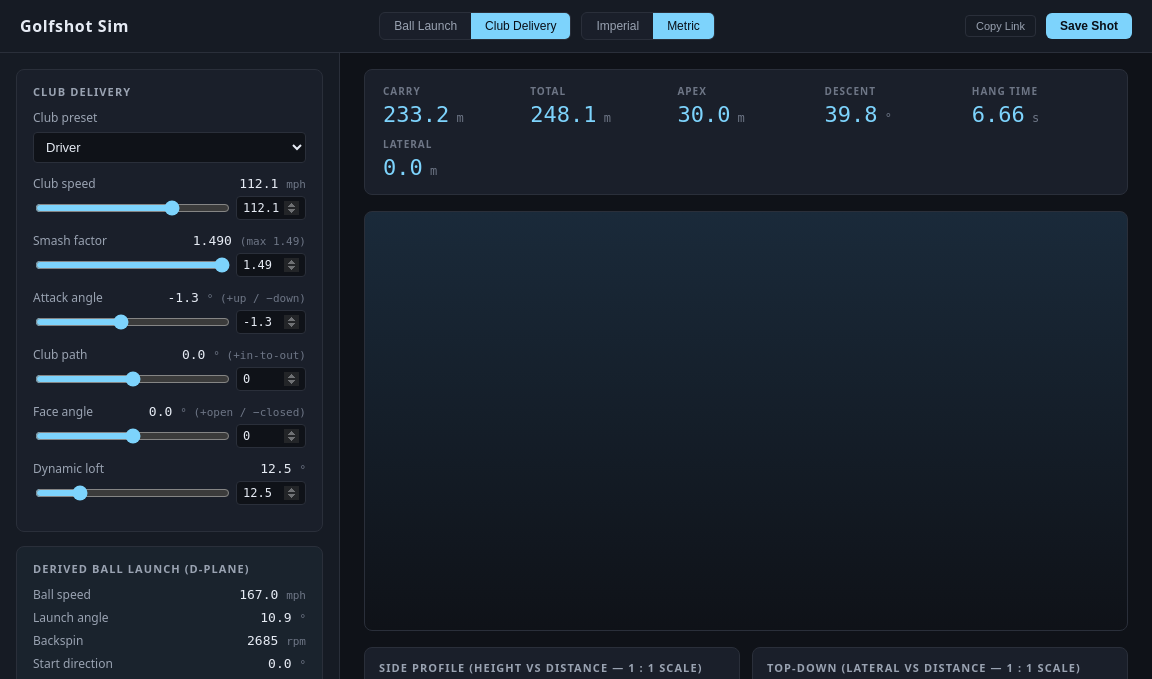
Test: App smoke › Derived ball launch panel is shown in default Delivery mode, hidden after switching to Ball Launch
Expected: the heading "Derived ball launch (D-plane)" is shown, [33,561,250,576]
Click the button "Ball Launch": coordinates (426, 26) [380,13,471,39]
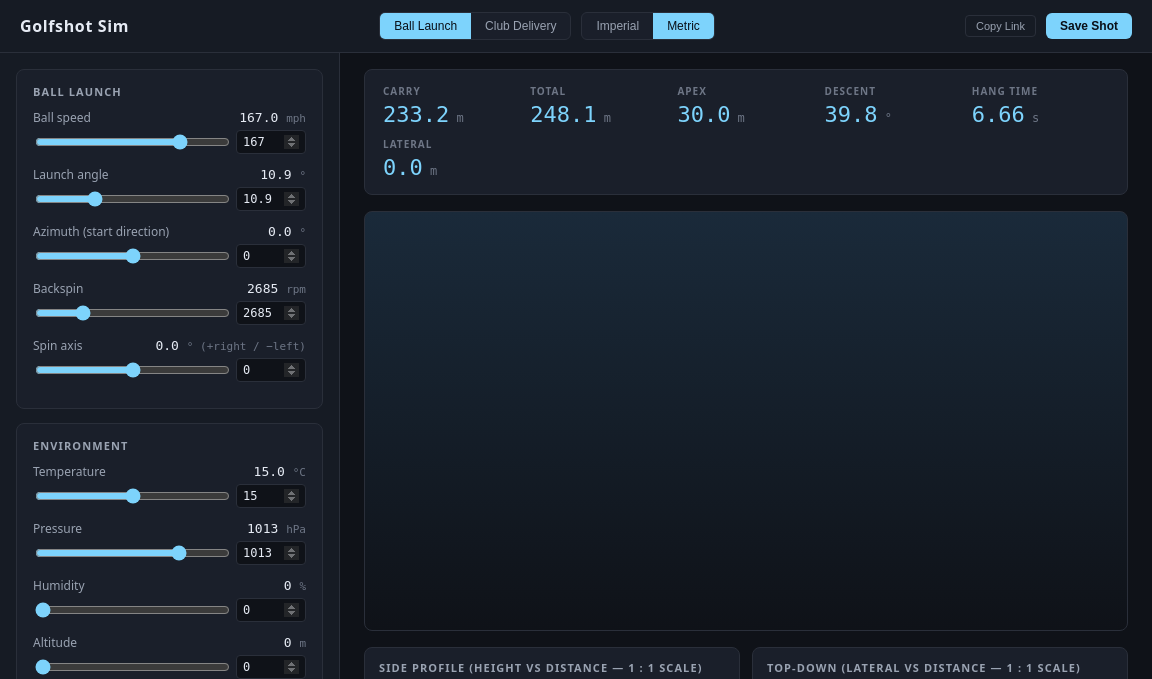
Expected: the heading "Derived ball launch" is gone
Expected: the heading "Ball Launch" is shown, [33,84,122,99]
